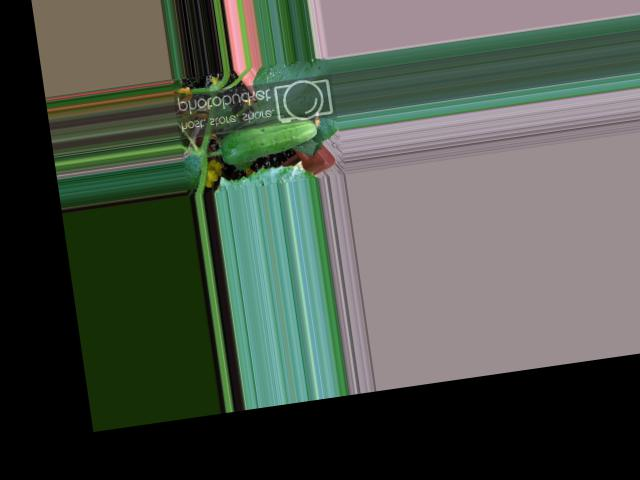cucumber: (218, 113, 321, 166)
